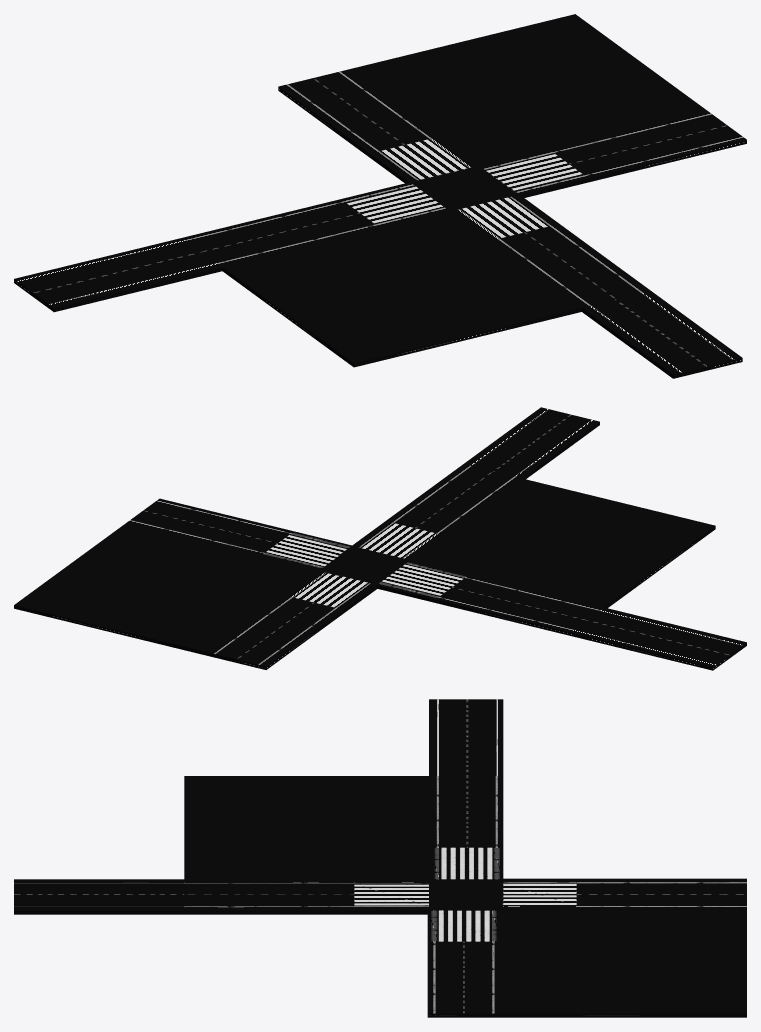
Rendered from Road.fbx.
3 renders of one model, top to bottom at view 1: azimuth 30°, elevation 25°; view 2: azimuth 150°, elevation 25°; view 3: azimuth 270°, elevation 25°, orthographic. The views are drawn at different scales.
Visible parts, largest first — view 1: Cube.014; view 2: Cube.014; view 3: Cube.014.
Boxes of the visible parts, box(x1,y1,x2,y2) form: Cube.014: box(14, 14, 746, 378); Cube.014: box(14, 407, 746, 670); Cube.014: box(14, 699, 746, 1017).
Bounding box in the file's own units: 6890 × 6990 × 40.
Materials: 6 (6 with a texture image).
